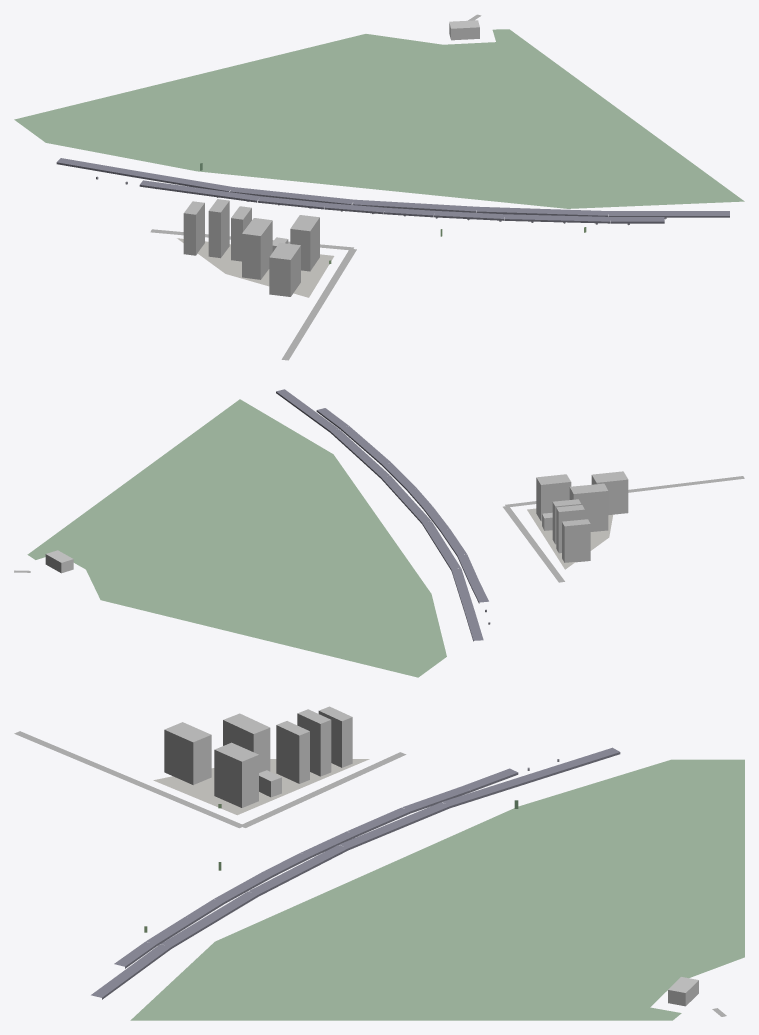
3 views of the same model, one above another, from view 1: azimuth 30°, elevation 25°; view 2: azimuth 150°, elevation 25°; view 3: azimuth 270°, elevation 25° (orthographic). The views are drawn at different scales.
Size of the model in its own units: 551 by 48.34 by 592.
